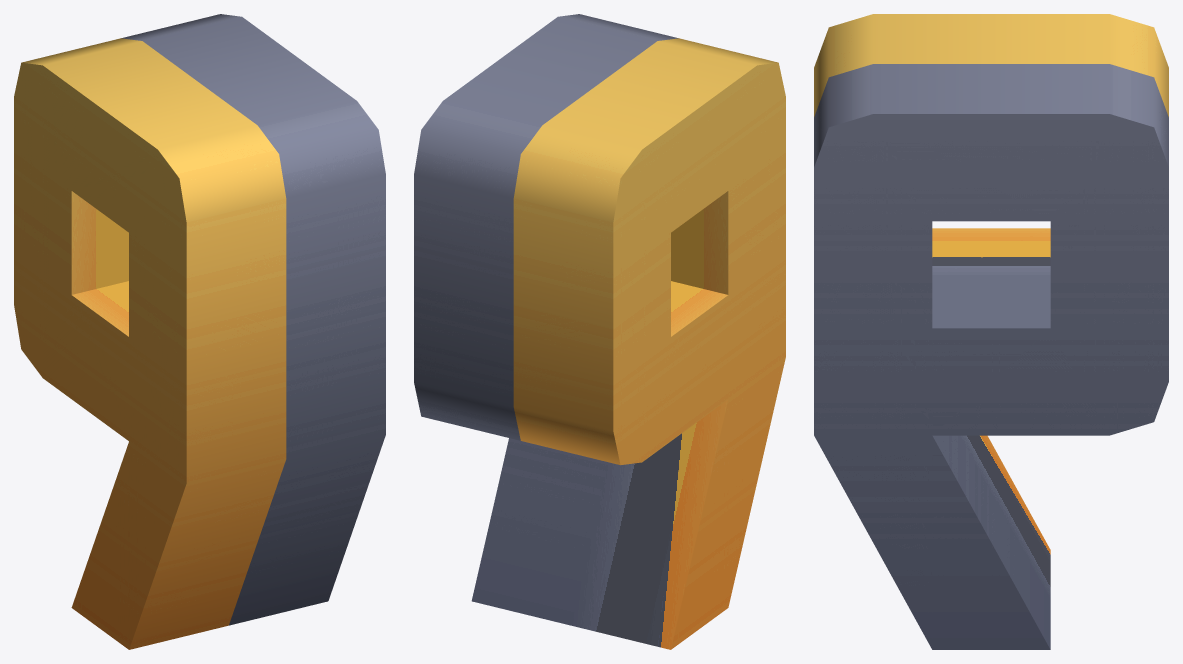
Rendered from number-double--col.009.glb.
3 renders of one model, left to right at view 1: azimuth 30°, elevation 25°; view 2: azimuth 150°, elevation 25°; view 3: azimuth 270°, elevation 25°, orthographic. The views are drawn at different scales.
Visible parts, largest first — view 1: number-double--col.009; view 2: number-double--col.009; view 3: number-double--col.009.
Boxes of the visible parts, box(x1,y1,x2,y2) form: number-double--col.009: box(14, 14, 385, 649); number-double--col.009: box(414, 14, 785, 649); number-double--col.009: box(814, 14, 1168, 649).
Bounding box in the file's own units: 0.2 × 0.5 × 0.3.
Materials: 1 (1 with a texture image).
